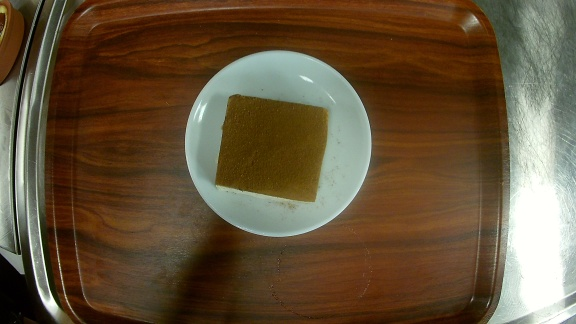tiramisu: (186, 50, 372, 235)
